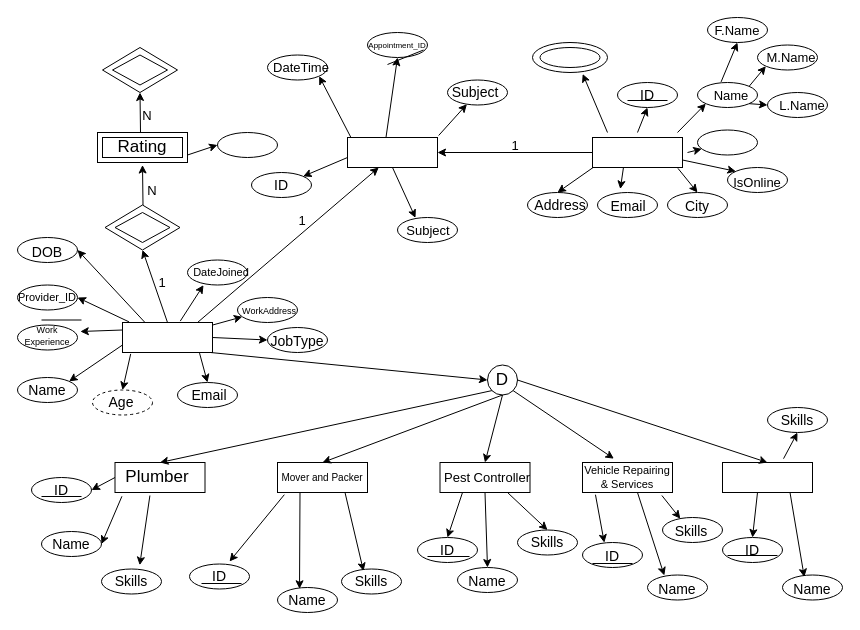
The diagram is 860 pixels wide and 630 high, and some of its shapes have lost their labels. Each missing label, with the centre of its shape:
Appointment Detail: the point at 392,152
DoRating: the point at 140,69
GetRating: the point at 142,227
Interior Design: the point at 767,477
Rating Value: the point at 247,145
Service Provider: the point at 167,337
Tel: the point at 569,57
User: the point at 637,152
UserType: the point at 727,142
